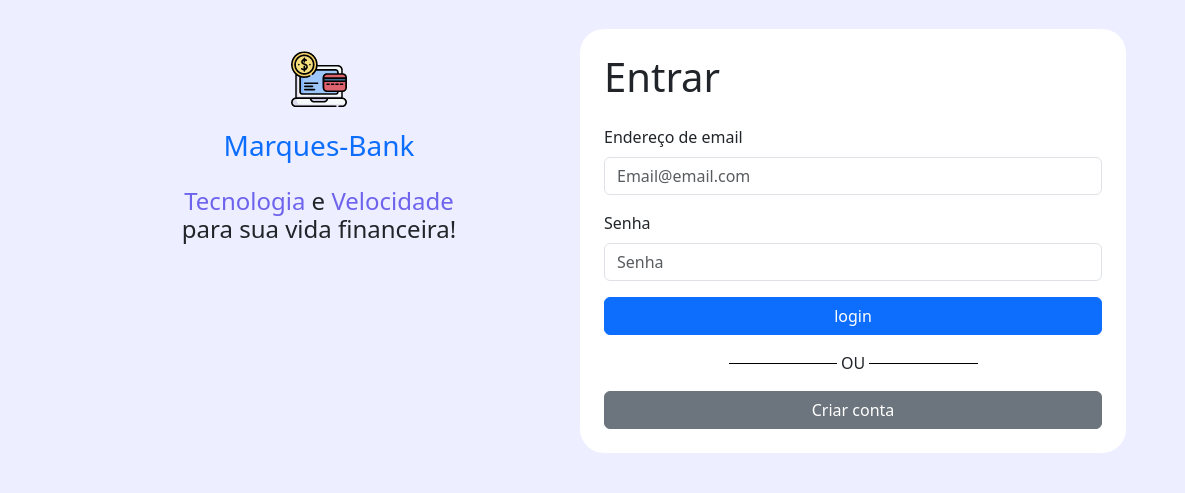
Test: Home screen › Should appear username in the screen
Step 1. Type "correctEmail@email.com" into the field labelled "Endereço de email" → (853, 176), box [604,157,1102,195]
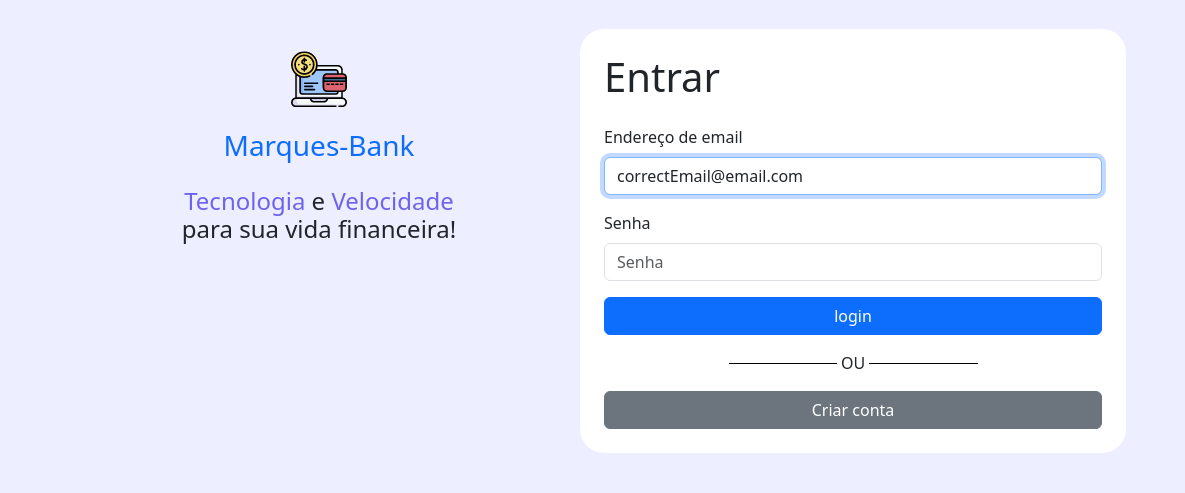
Step 2. Type "1234" into the password field labelled "Senha" → (853, 262), box [604,243,1102,281]
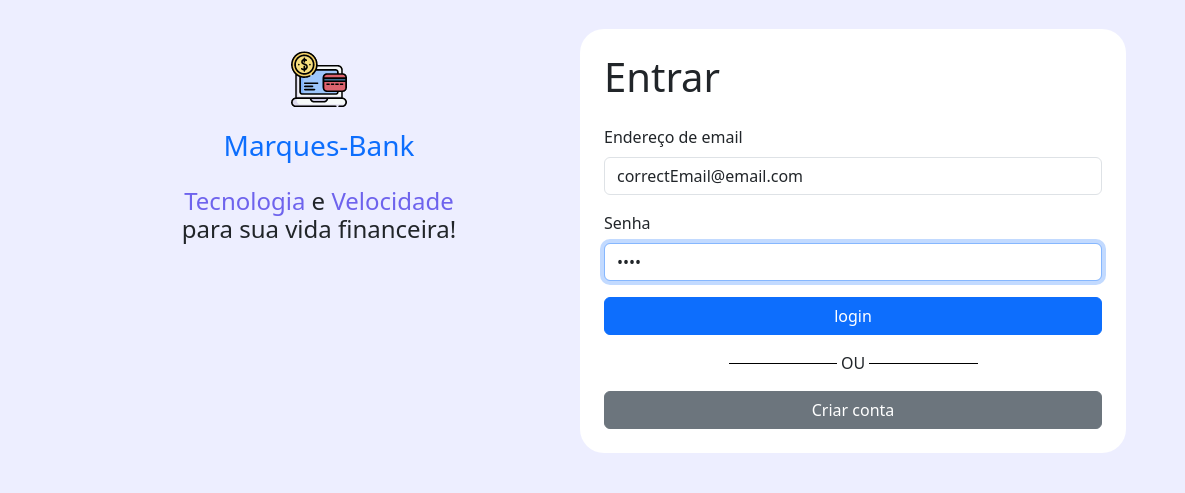
Step 3. Click the button "login" → (853, 316), box [604,297,1102,335]
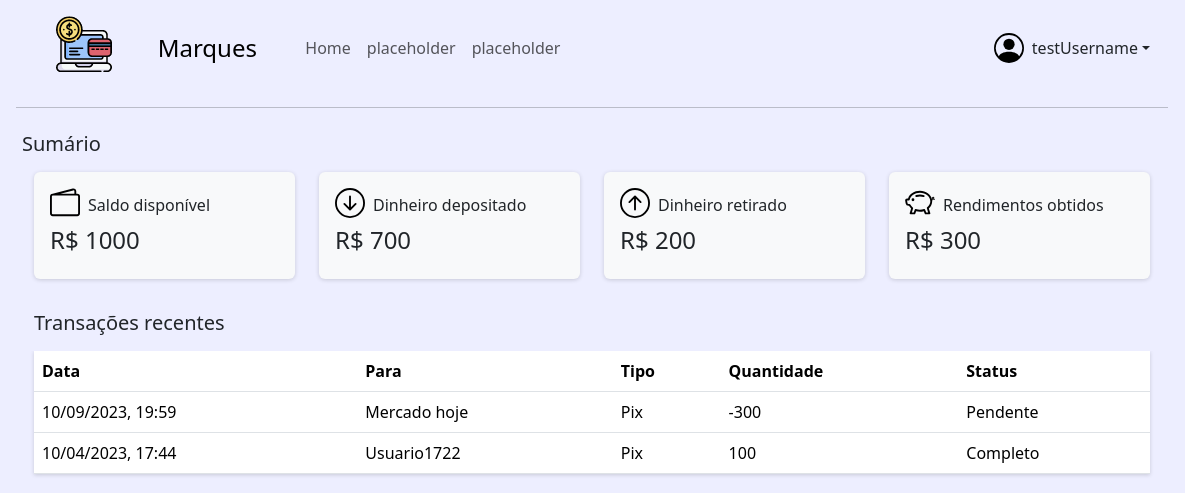
Now the button "testUsername" is shown, box [1032,36,1150,60]
